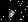person: (9, 4, 17, 21)
